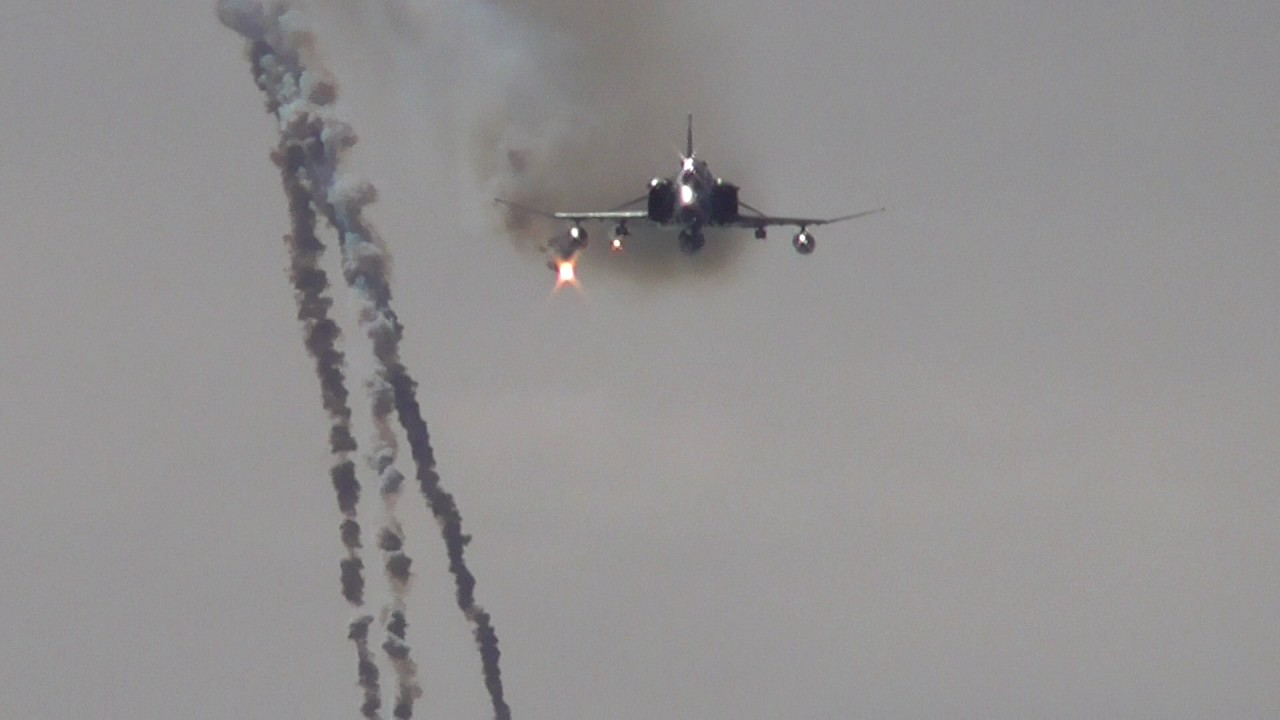F4: (493, 111, 886, 255)
